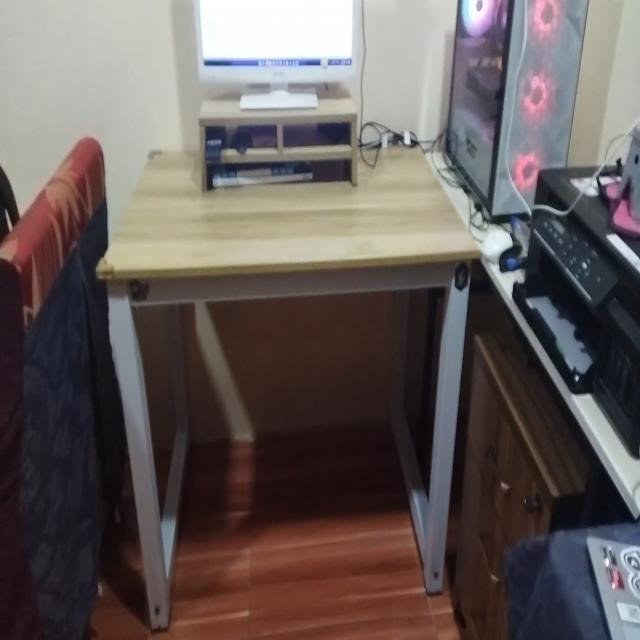table: (95, 126, 474, 606)
